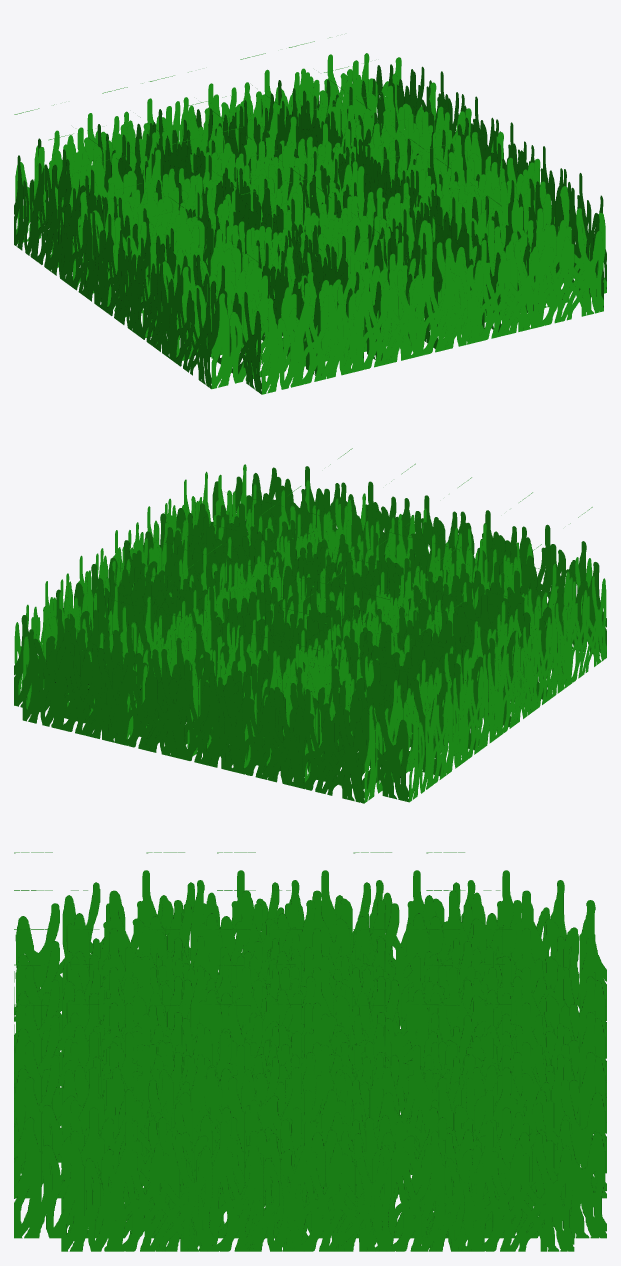
The model's file is Grass.obj.
3 renders of one model, top to bottom at view 1: azimuth 30°, elevation 25°; view 2: azimuth 150°, elevation 25°; view 3: azimuth 270°, elevation 25°, orthographic. The views are drawn at different scales.
Visible parts, largest first — view 1: Cube.041, Cube.006, Cube.030, Cube.029, Cube.035, Cube.036, Cube.005, Cube.012, Cube, Cube.011, Cube.023, Cube.008 (+30 smaller); view 2: Cube.039, Cube.027, Cube.032, Cube.033, Cube, Cube.006, Cube.005, Cube.011, Cube.038, Cube.012, Cube.002, Cube.024 (+30 smaller); view 3: Cube.008, Cube.003, Cube.002, Cube.009, Cube.014, Cube.035, Cube.033, Cube.029, Cube.027, Cube.041, Cube.039, Cube.024 (+30 smaller).
Boxes of the visible parts, x1,y1,x2,y2 form: Cube.041: [193, 228, 363, 394]; Cube.006: [152, 206, 330, 389]; Cube.030: [253, 213, 423, 379]; Cube.029: [371, 184, 540, 351]; Cube.035: [433, 169, 603, 335]; Cube.036: [317, 198, 484, 364]; Cube.005: [83, 155, 259, 338]; Cube.012: [116, 180, 294, 362]; Cube: [14, 104, 190, 286]; Cube.011: [48, 129, 223, 311]; Cube.023: [143, 190, 311, 357]; Cube.008: [427, 139, 606, 315]; Cube.039: [262, 623, 433, 803]; Cube.027: [85, 580, 256, 760]; Cube.032: [203, 608, 374, 788]; Cube.033: [22, 564, 193, 744]; Cube: [289, 640, 468, 802]; Cube.006: [428, 539, 606, 700]; Cube.005: [359, 589, 537, 750]; Cube.011: [324, 615, 501, 776]; Cube.038: [142, 594, 312, 773]; Cube.012: [392, 565, 569, 726]; Cube.002: [14, 573, 191, 733]; Cube.024: [292, 602, 462, 781]; Cube.008: [61, 1044, 213, 1251]; Cube.003: [240, 1044, 392, 1251]; Cube.002: [421, 1044, 574, 1251]; Cube.009: [332, 1044, 484, 1251]; Cube.014: [156, 1044, 308, 1251]; Cube.035: [14, 1004, 192, 1238]; Cube.033: [426, 1004, 606, 1238]; Cube.029: [14, 964, 192, 1198]; Cube.027: [426, 964, 606, 1198]; Cube.041: [14, 852, 192, 1072]; Cube.039: [426, 852, 606, 1050]; Cube.024: [353, 852, 522, 1043].
Size of the model in its own units: 2.57 by 0.8077 by 2.57.
42 materials, 42 textured.
